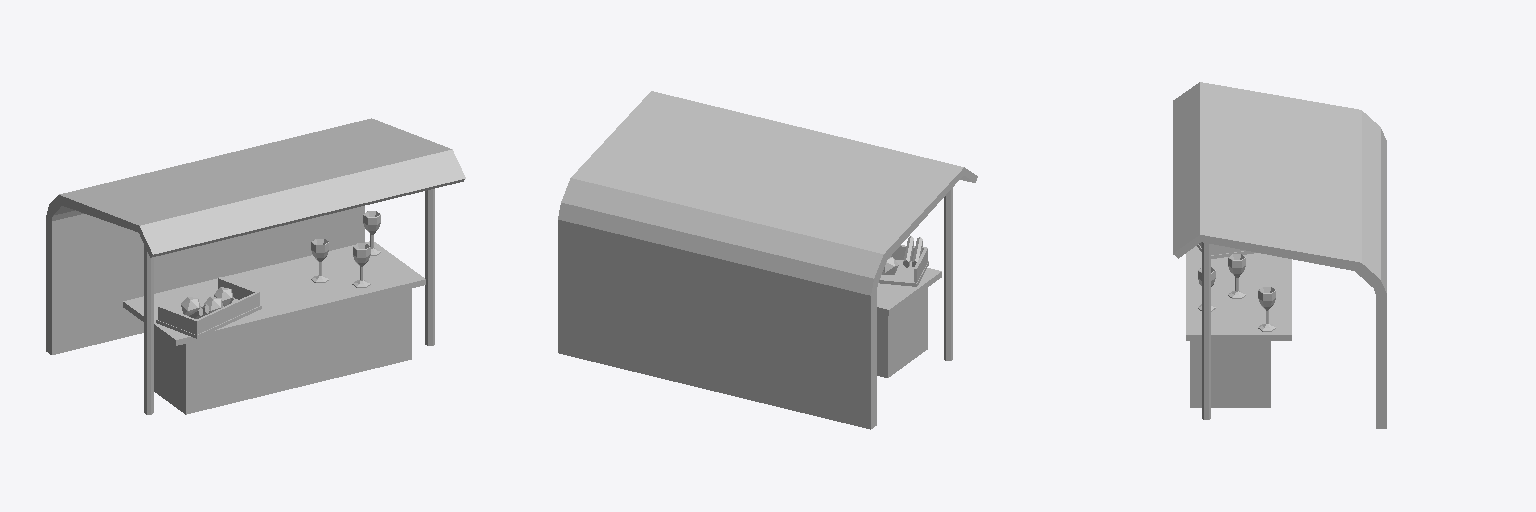
Rendered from stall.obj.
The picture shows the model from 3 angles: view 1: azimuth 30°, elevation 25°; view 2: azimuth 150°, elevation 25°; view 3: azimuth 270°, elevation 25°; orthographic projection.
Visible parts, largest first — view 1: Cube; view 2: Cube; view 3: Cube.
Part boxes in pixels (bbox=[...]): Cube: bbox=[46, 118, 465, 414]; Cube: bbox=[558, 91, 977, 429]; Cube: bbox=[1173, 82, 1386, 428].
Size of the model in its own units: 8.92 by 5.32 by 5.29.